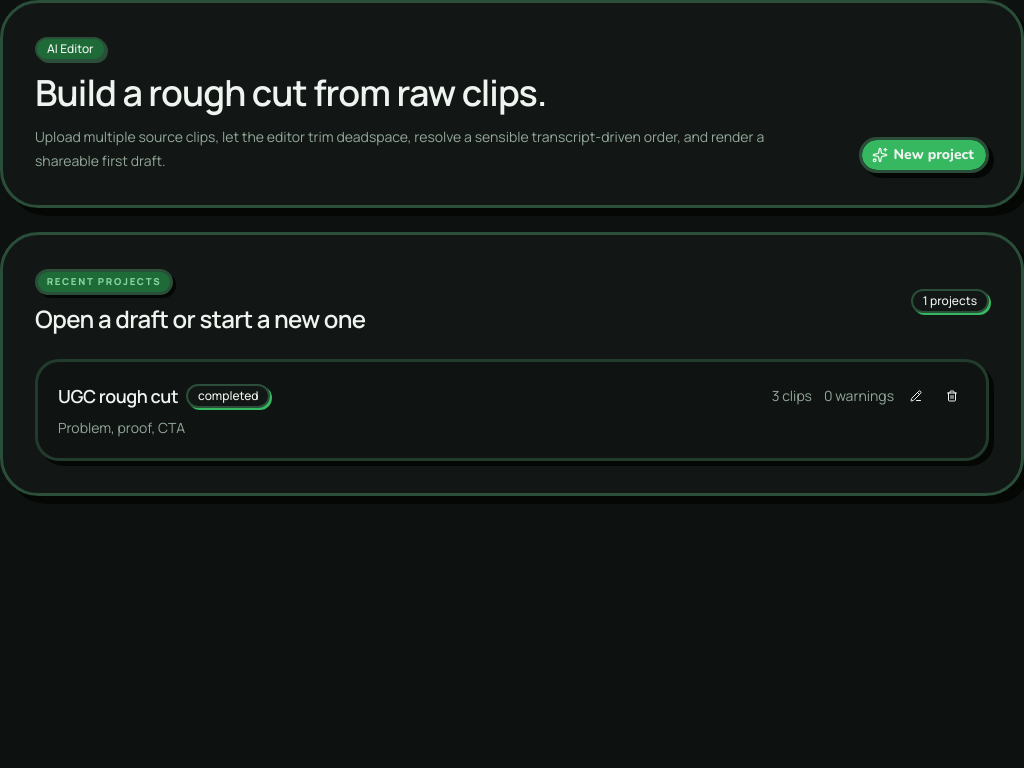
Scenario: EditorHome › closes the delete modal without deleting when cancelled
What coordinates should you click on to do the following:
click the button named "delete ugc rough cut"
I would click on:
 (952, 396)
Its box is [938, 382, 966, 410].
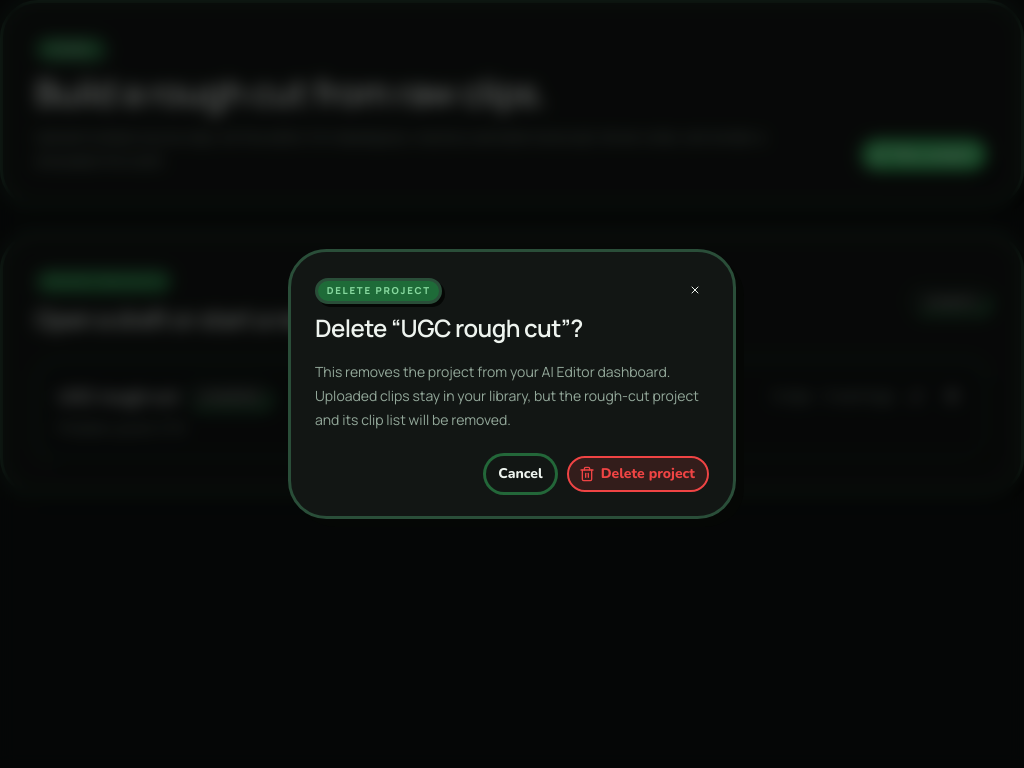
Expected: the dialog is shown, [288, 249, 736, 519]
What coordinates should you click on to do the following:
click the button "Cancel"
I would click on:
 (520, 474)
Its box is [486, 456, 555, 492].
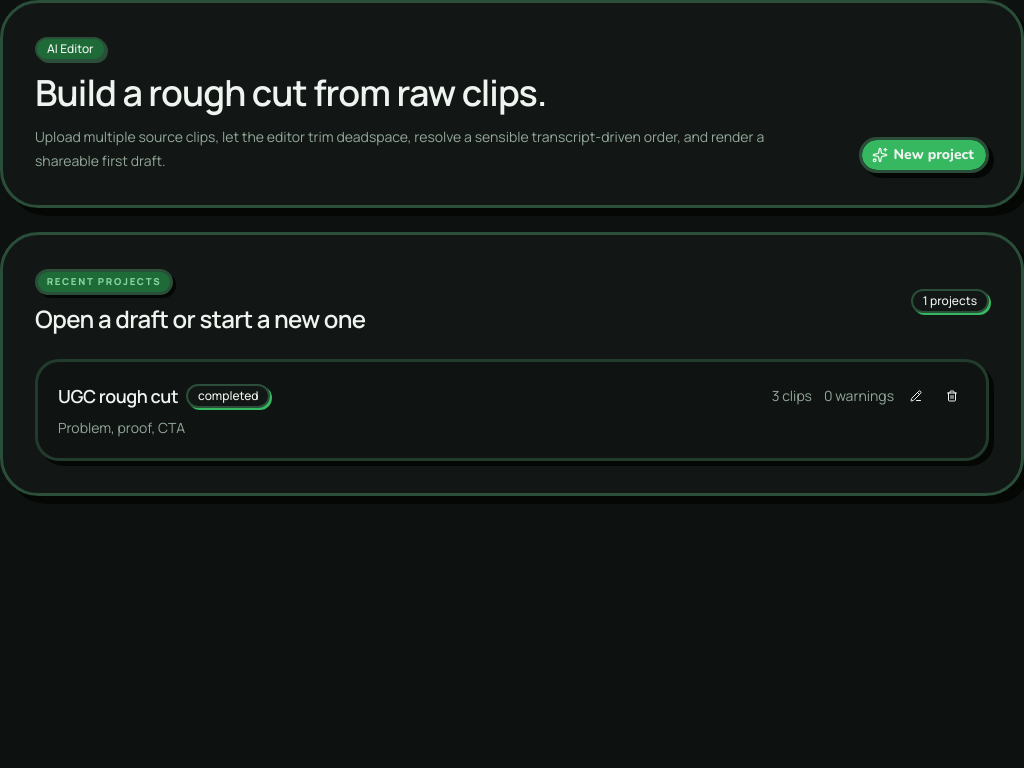
Expected: the dialog is gone
